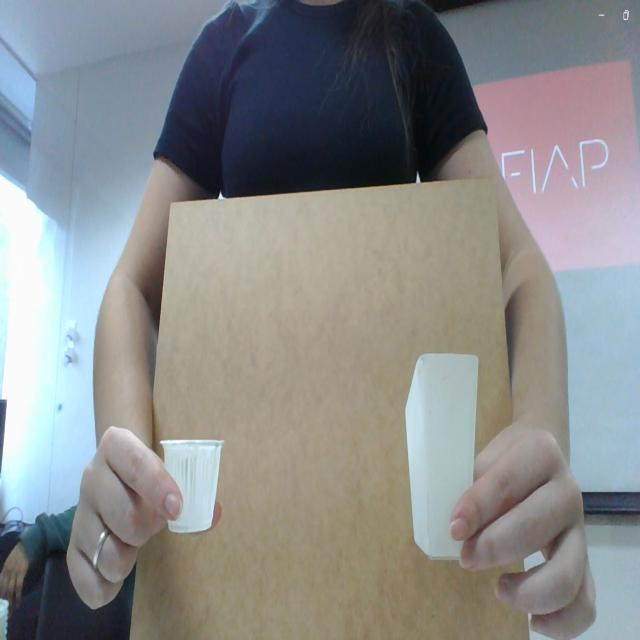erva_daninha: (405, 352, 478, 561)
planta: (160, 439, 225, 535)
